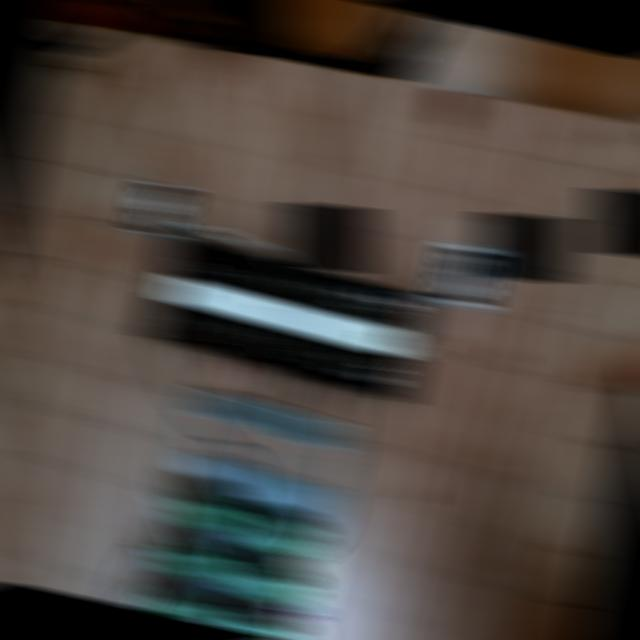Phillips_Block: (142, 229, 432, 401)
Terminal_2: (159, 532, 232, 585), (234, 557, 307, 610), (171, 485, 245, 536), (149, 581, 223, 625), (226, 605, 297, 640)
